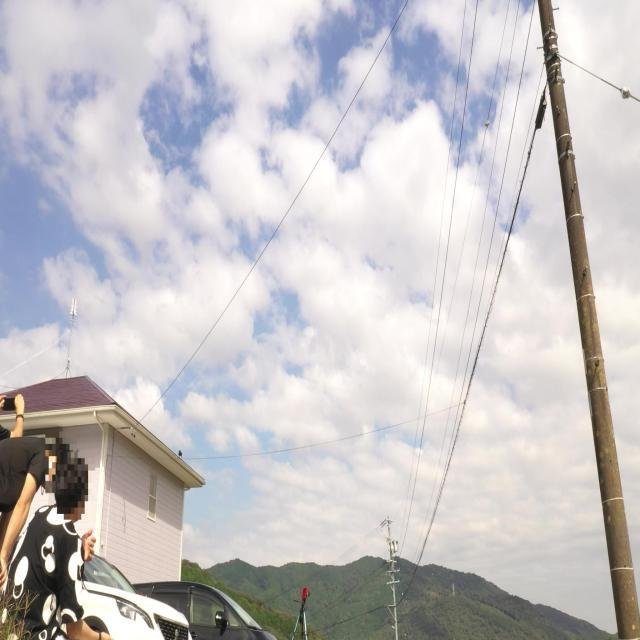Birds: (176, 446, 186, 460)
